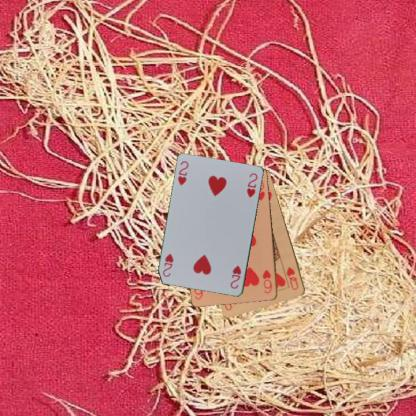2h: (175, 158, 190, 187), (228, 262, 242, 290)
6h: (260, 267, 273, 295)
Qh: (284, 264, 300, 291)
